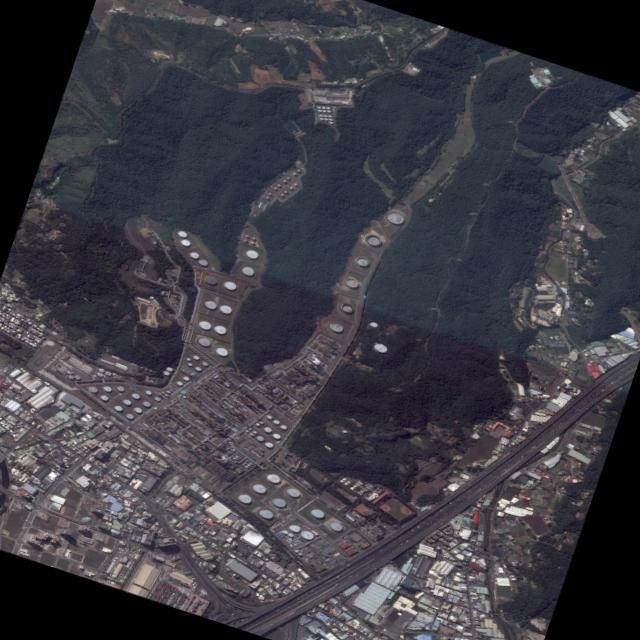storage-tank: (386, 210, 405, 225), (365, 232, 382, 246), (238, 492, 253, 504), (260, 508, 275, 520), (355, 255, 370, 267), (340, 301, 355, 313), (253, 482, 267, 494), (268, 472, 282, 484), (273, 496, 287, 508), (312, 507, 326, 519), (330, 520, 344, 532), (300, 529, 315, 540), (204, 274, 219, 285), (374, 342, 389, 353), (198, 336, 212, 347), (204, 299, 218, 310), (330, 321, 344, 332), (345, 277, 359, 288), (224, 279, 238, 290), (245, 248, 259, 259), (288, 487, 301, 498), (214, 323, 227, 334), (199, 319, 212, 330), (220, 303, 233, 314), (242, 265, 255, 276), (216, 346, 229, 356), (291, 524, 301, 532), (190, 251, 200, 259), (182, 238, 192, 246), (178, 229, 188, 237), (199, 258, 209, 266), (143, 400, 152, 407), (132, 392, 141, 399), (123, 398, 132, 405), (256, 434, 264, 441), (135, 406, 143, 413), (126, 412, 134, 419), (266, 441, 274, 448), (273, 432, 281, 439), (115, 404, 123, 411), (117, 384, 125, 391), (104, 385, 112, 392), (90, 386, 98, 393), (264, 426, 272, 432), (273, 418, 281, 424), (101, 394, 109, 400), (370, 321, 378, 327), (195, 365, 202, 371), (155, 395, 162, 401), (146, 389, 153, 395), (267, 413, 274, 419), (105, 370, 112, 376), (98, 366, 105, 372), (68, 373, 75, 379), (202, 360, 209, 366), (193, 354, 200, 360), (166, 366, 174, 371), (183, 375, 190, 380), (163, 370, 170, 375), (281, 424, 288, 429), (287, 532, 294, 537), (97, 371, 104, 376), (74, 374, 81, 379), (66, 369, 73, 374), (177, 380, 183, 385), (283, 529, 289, 534), (286, 175, 292, 180), (245, 233, 250, 238), (265, 195, 271, 199), (292, 171, 298, 175), (188, 362, 193, 366), (161, 390, 166, 394), (268, 191, 273, 195), (280, 192, 285, 196), (284, 189, 289, 193), (294, 182, 299, 186), (277, 183, 282, 187), (297, 168, 302, 172), (243, 238, 248, 242), (250, 240, 255, 244), (252, 236, 257, 240), (260, 420, 264, 424), (256, 422, 260, 426), (318, 108, 322, 112), (167, 389, 171, 393), (165, 392, 169, 396), (295, 548, 299, 552), (290, 185, 294, 189), (320, 116, 324, 120), (319, 113, 323, 117), (250, 432, 255, 435), (253, 430, 258, 433), (298, 552, 303, 555), (343, 429, 348, 432), (273, 186, 278, 189), (283, 179, 288, 182), (329, 120, 334, 123), (324, 117, 329, 120), (327, 109, 332, 112), (317, 105, 321, 108), (249, 427, 253, 430), (187, 357, 191, 360), (169, 388, 173, 391), (149, 369, 153, 372), (140, 365, 144, 368), (245, 465, 249, 468), (247, 463, 251, 466), (249, 461, 253, 464), (233, 456, 237, 459), (236, 455, 240, 458), (329, 117, 333, 120), (328, 114, 332, 117), (324, 114, 328, 117), (323, 109, 327, 112), (322, 105, 326, 108), (112, 372, 116, 375), (294, 399, 298, 402), (246, 429, 249, 432), (232, 448, 235, 451), (145, 367, 148, 370), (327, 106, 330, 109), (243, 462, 245, 465), (244, 461, 247, 463), (295, 543, 298, 545), (293, 401, 296, 403), (262, 448, 264, 450), (260, 446, 262, 448)
